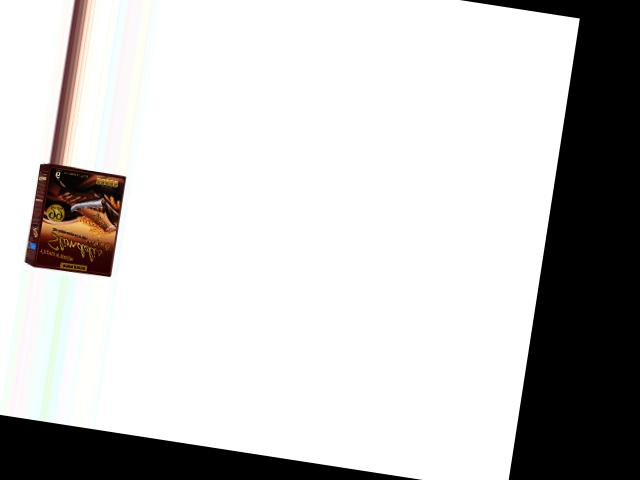chocolate: (18, 160, 135, 281)
